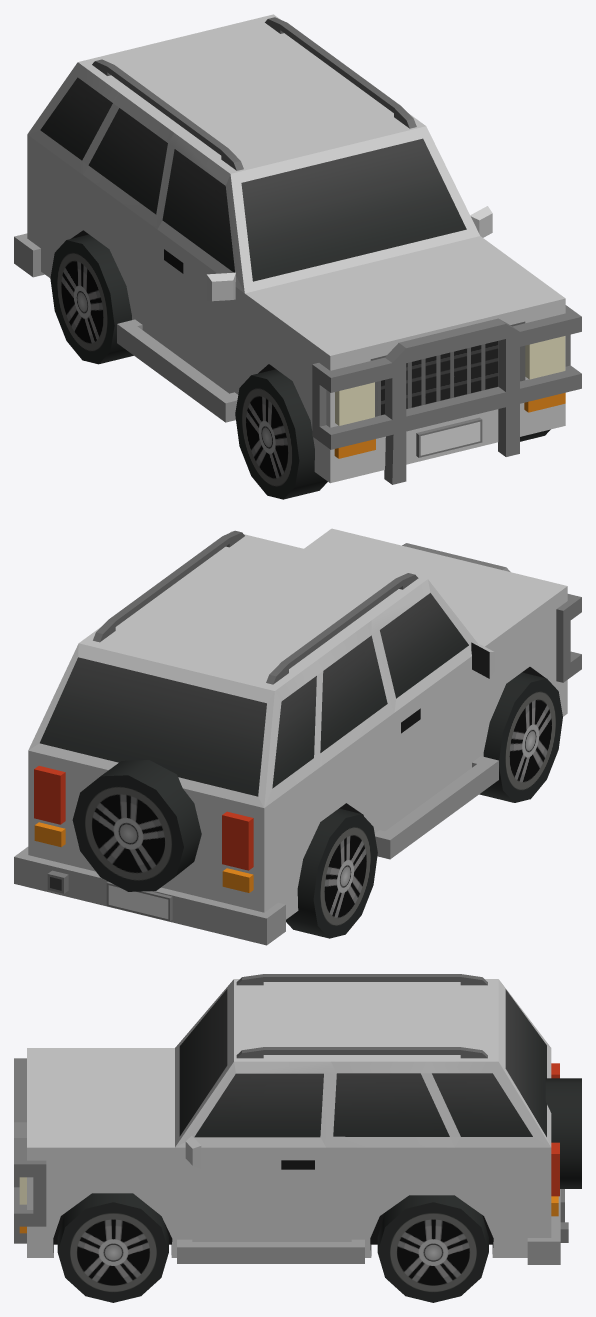
The model's file is SUVA.fbx.
3 renders of one model, top to bottom at view 1: azimuth 30°, elevation 25°; view 2: azimuth 150°, elevation 25°; view 3: azimuth 270°, elevation 25°, orthographic. The views are drawn at different scales.
Visible parts, largest first — view 1: SUVA, TireFR, TireBR; view 2: SUVA, TireBR, TireFR; view 3: SUVA, TireFL, TireBL.
Boxes of the visible parts, left/top/right/bottom form: SUVA: left=14, top=14, right=581, bottom=484; TireFR: left=235, top=369, right=327, bottom=499; TireBR: left=50, top=234, right=133, bottom=364; SUVA: left=14, top=528, right=581, bottom=945; TireBR: left=286, top=808, right=377, bottom=938; TireFR: left=479, top=672, right=562, bottom=802; SUVA: left=14, top=974, right=581, bottom=1264; TireFL: left=57, top=1193, right=168, bottom=1302; TireBL: left=377, top=1195, right=488, bottom=1302.
Bounding box in the file's own units: 214 × 198 × 432.
